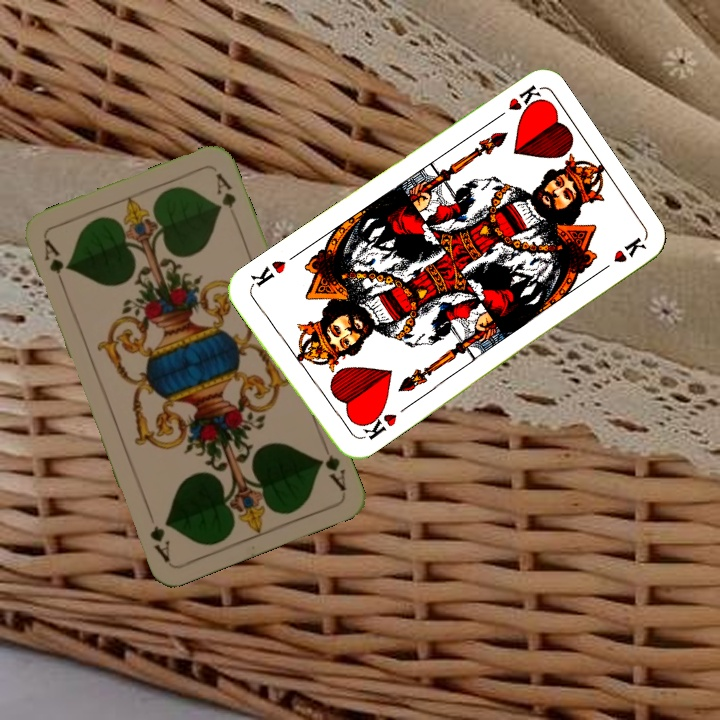GA: (314, 437, 349, 494), (40, 235, 68, 292)
HK: (488, 80, 545, 125), (353, 404, 400, 443)
